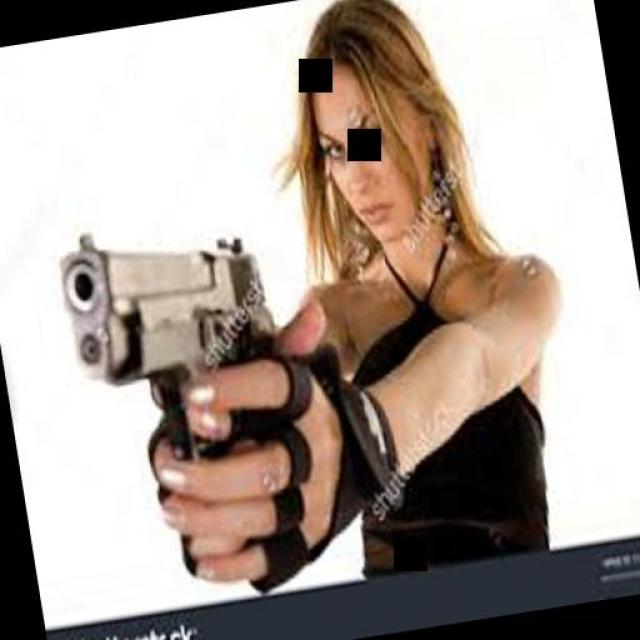gun: (52, 198, 312, 566)
